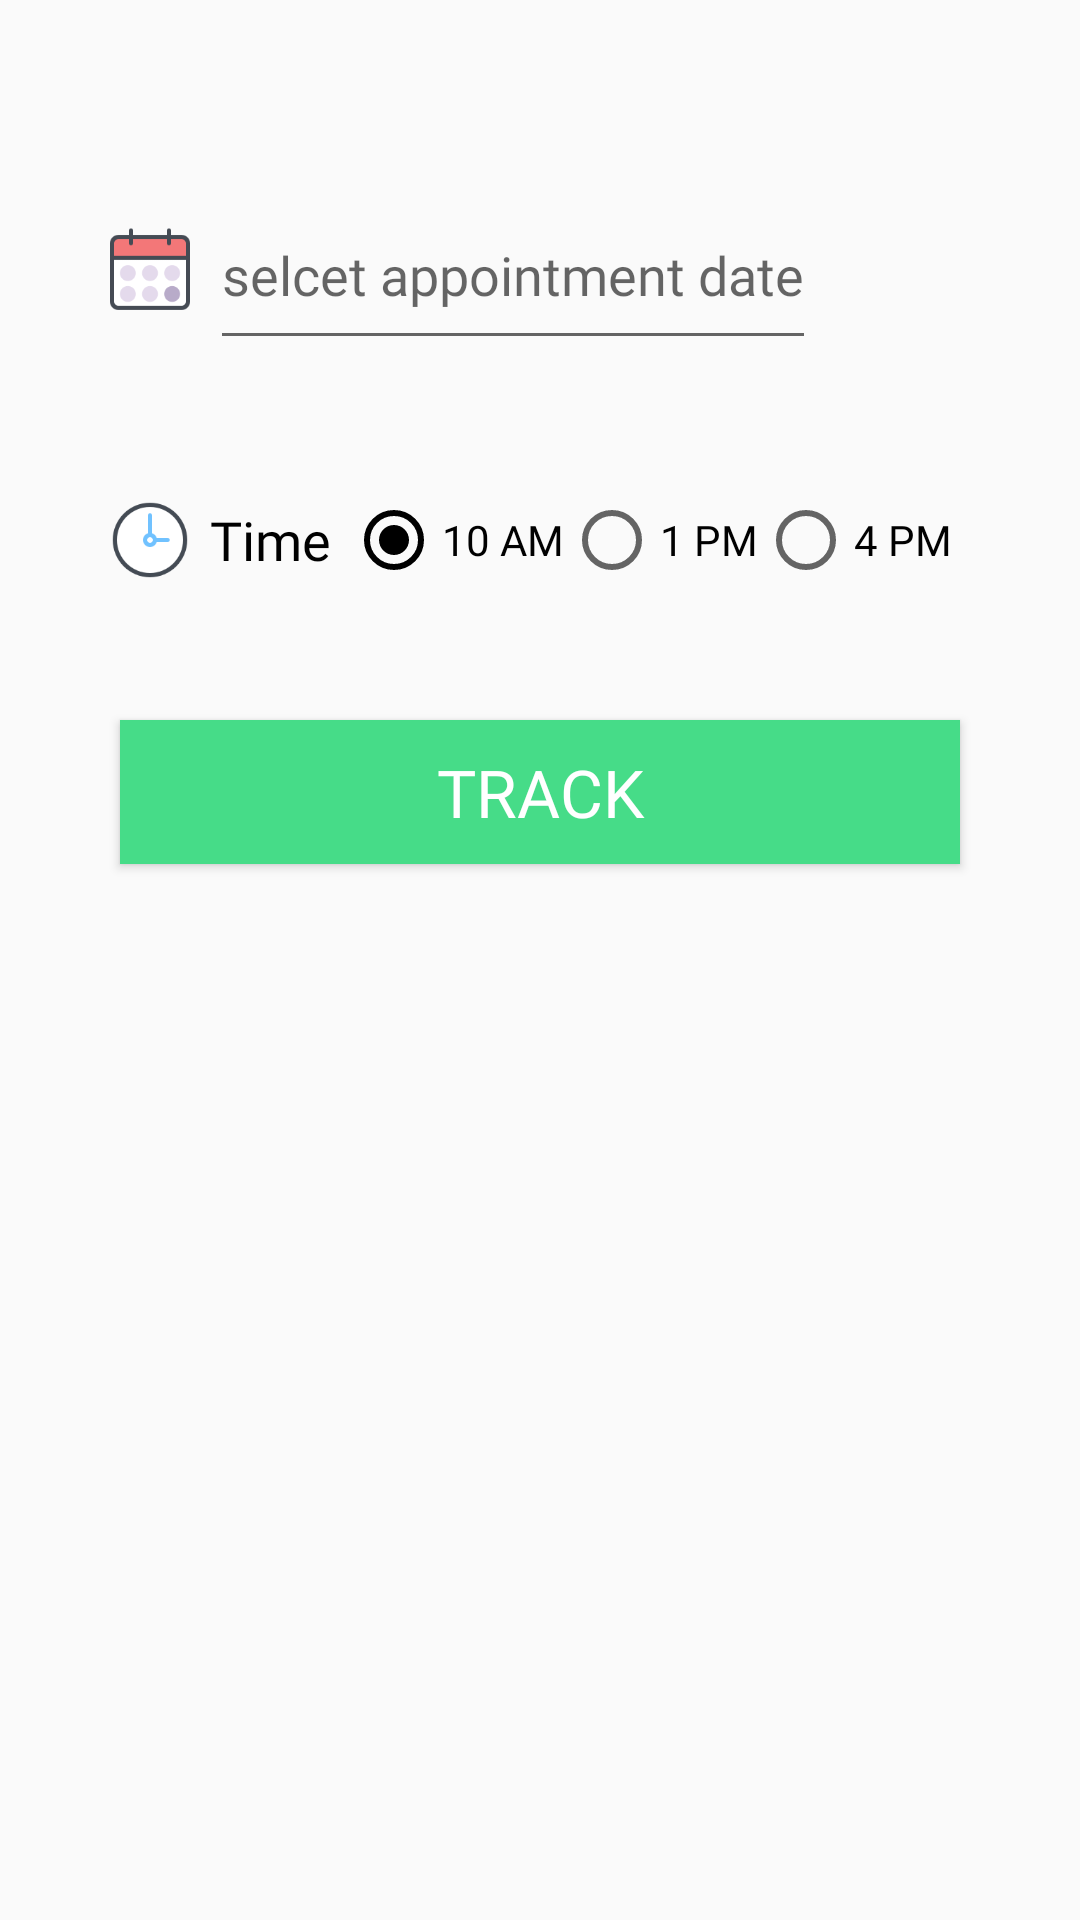

Screen size 1080 x 1920. Icon name, then its box in pixels as detection(x1, y1, x2, y2):
calender: detection(110, 228, 190, 310)
clock: detection(112, 502, 188, 578)
